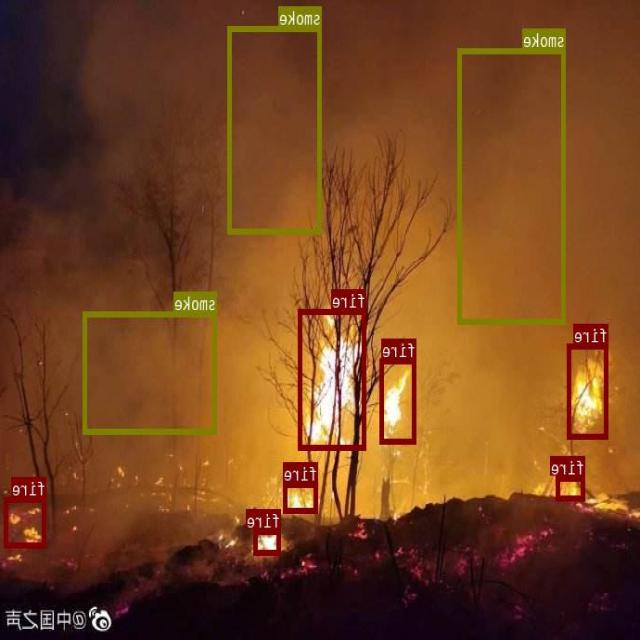fire: (299, 308, 367, 449), (568, 343, 608, 437), (381, 358, 417, 443), (5, 496, 47, 547), (284, 481, 318, 512), (557, 475, 586, 499), (255, 528, 281, 554)
smoke: (459, 47, 566, 323), (229, 26, 322, 233), (84, 311, 218, 433)
